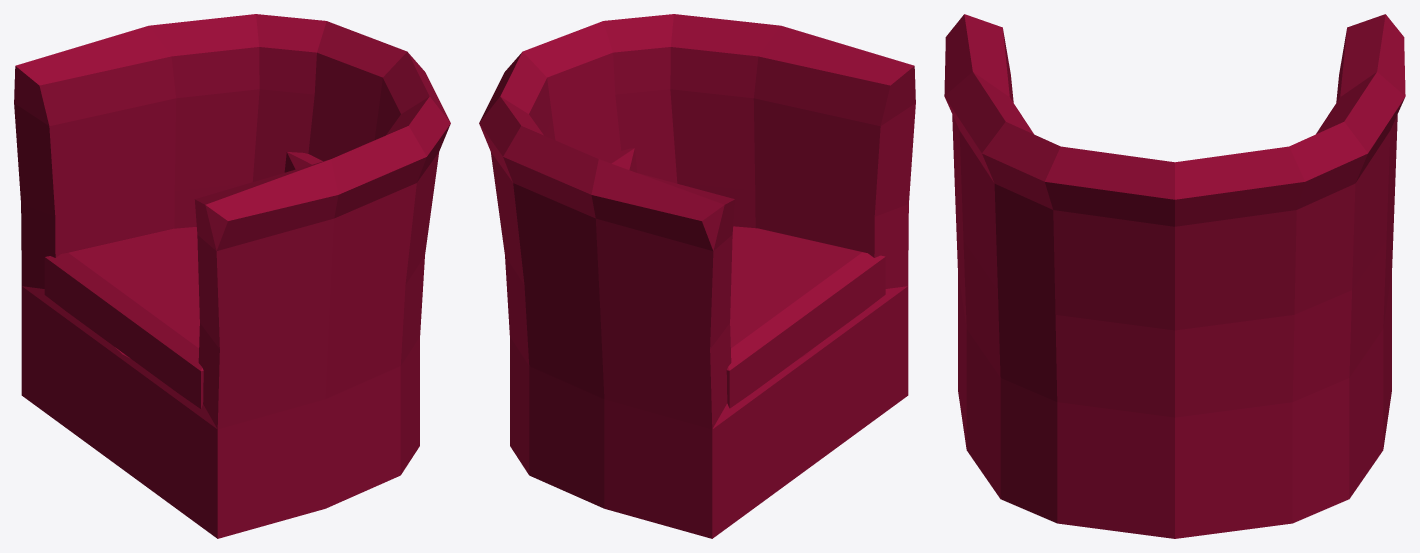
Rendered from armchair.dae.
3 renders of one model, left to right at view 1: azimuth 30°, elevation 25°; view 2: azimuth 150°, elevation 25°; view 3: azimuth 270°, elevation 25°, orthographic. The views are drawn at different scales.
Visible parts, largest first — view 1: IKEA_armchair_EKTORP; view 2: IKEA_armchair_EKTORP; view 3: IKEA_armchair_EKTORP.
Boxes of the visible parts, x1,y1,x2,y2 form: IKEA_armchair_EKTORP: (14,14,450,538); IKEA_armchair_EKTORP: (479,14,915,538); IKEA_armchair_EKTORP: (944,14,1405,538).
Size of the model in its own units: 0.7 by 0.8 by 0.77.
